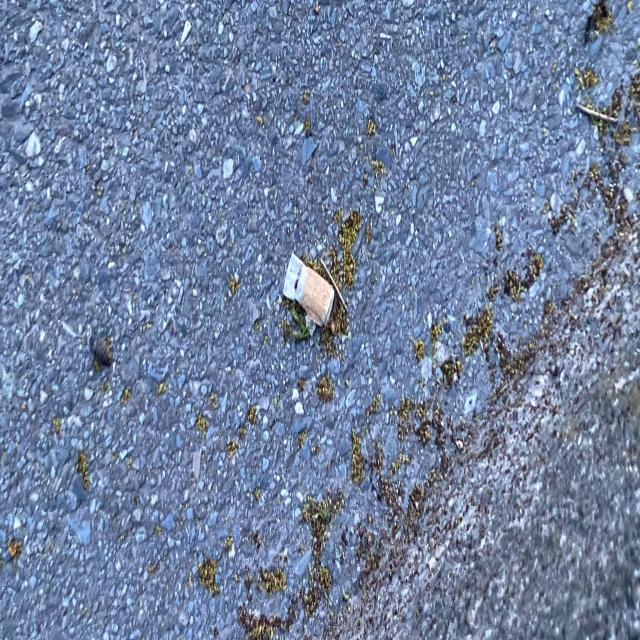other waste: (282, 251, 335, 328)
